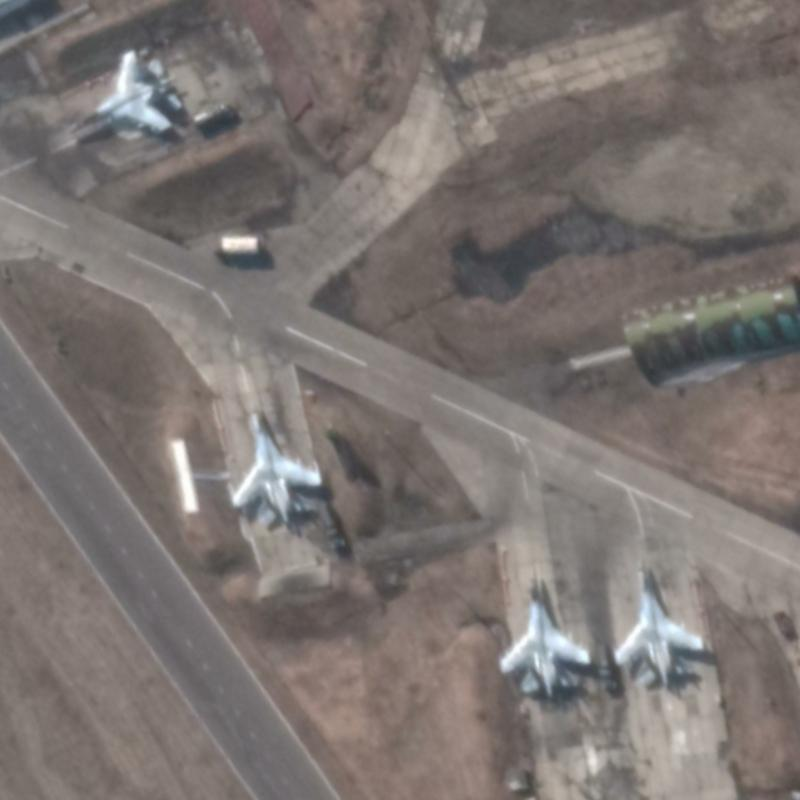A1: (610, 558, 706, 691), (496, 571, 592, 699), (228, 409, 323, 527), (64, 47, 183, 136)
